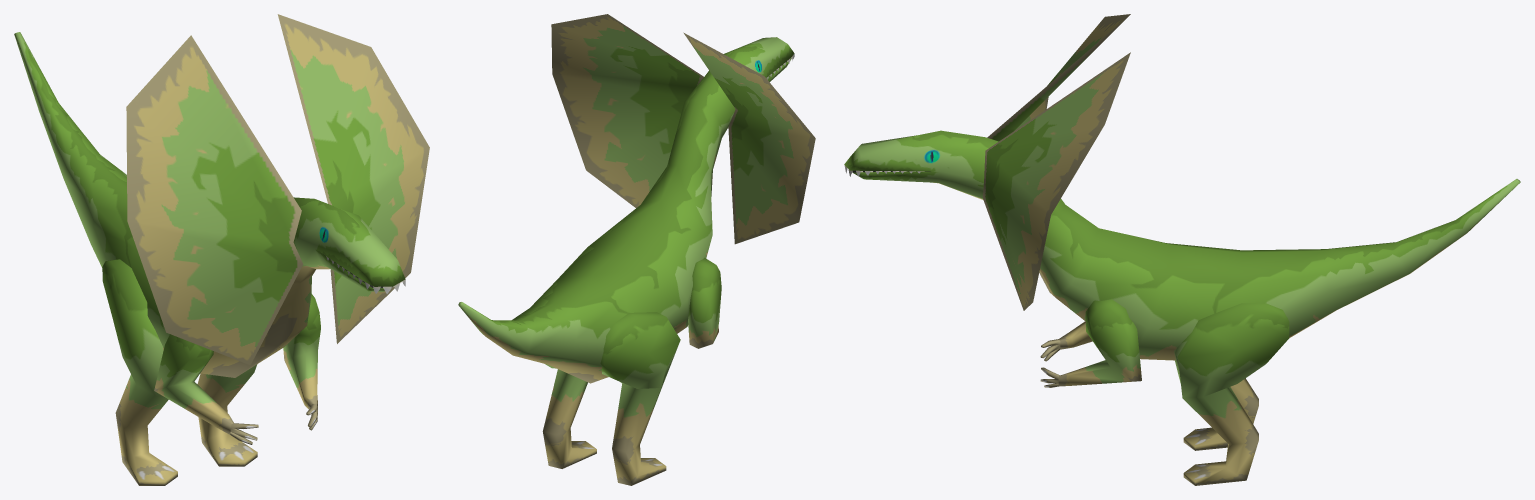
Rendered from Dilophosaurus.fbx.
3 renders of one model, left to right at view 1: azimuth 30°, elevation 25°; view 2: azimuth 150°, elevation 25°; view 3: azimuth 270°, elevation 25°, orthographic. The views are drawn at different scales.
Visible parts, largest first — view 1: Cube.002, Cube.000; view 2: Cube.000, Cube.002; view 3: Cube.000, Cube.002.
Boxes of the visible parts, left/top/right/bottom form: Cube.002: left=126, top=14, right=429, bottom=365; Cube.000: left=14, top=32, right=405, bottom=485; Cube.000: left=458, top=37, right=794, bottom=485; Cube.002: left=551, top=14, right=815, bottom=244; Cube.000: left=844, top=130, right=1520, bottom=485; Cube.002: left=982, top=14, right=1130, bottom=310.
Bounding box in the file's own units: 133 × 198 × 285.
